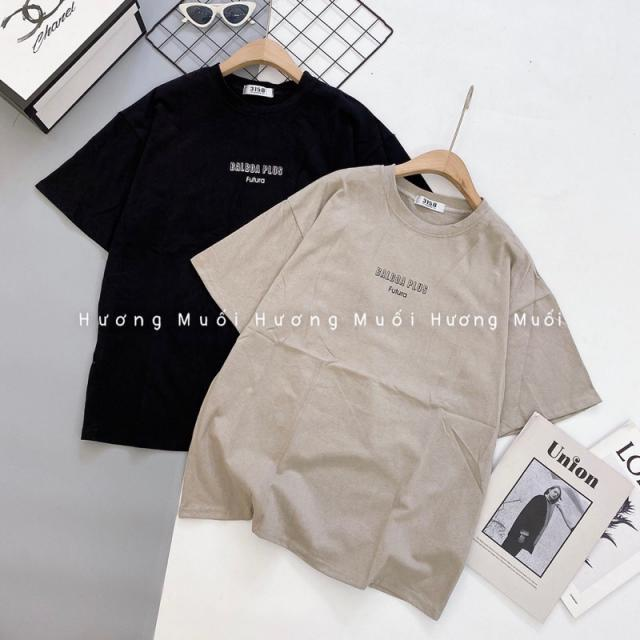Shirt: (190, 155, 598, 613), (38, 61, 436, 448)
